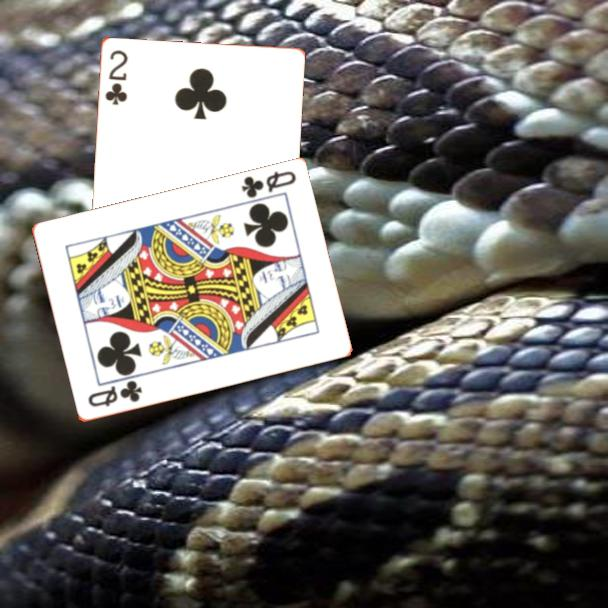c02: (101, 46, 130, 107)
c12: (84, 377, 145, 410), (238, 168, 299, 201)
